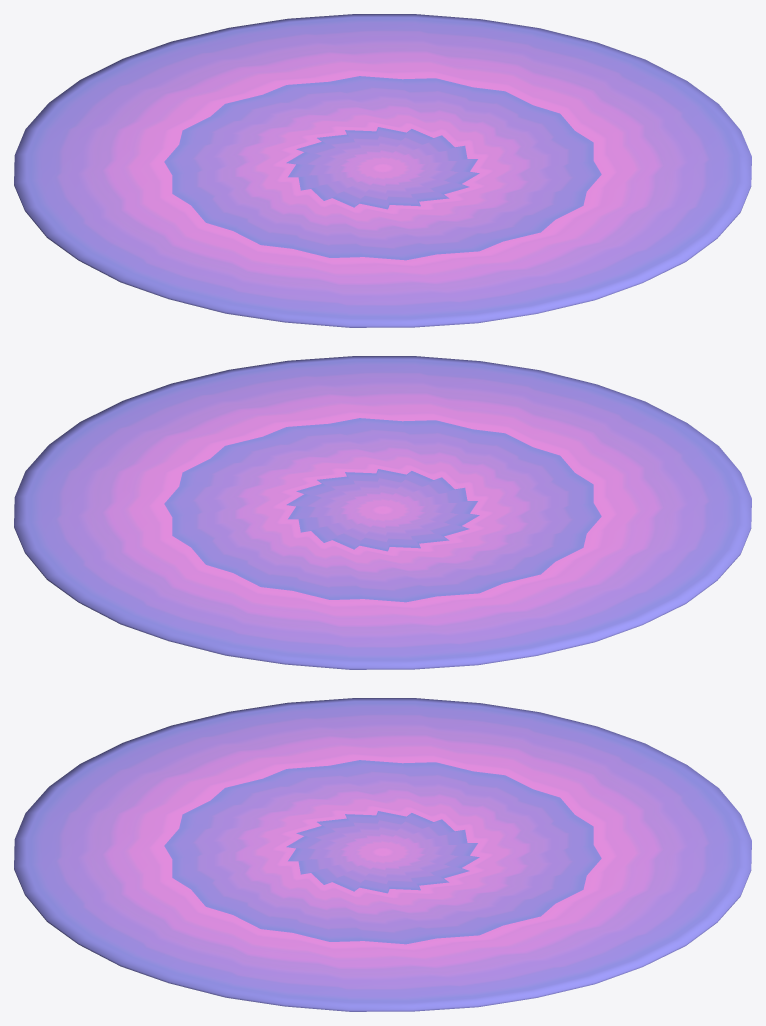
The model's file is Rug_Circle.fbx.
3 views of the same model, one above another, from view 1: azimuth 30°, elevation 25°; view 2: azimuth 150°, elevation 25°; view 3: azimuth 270°, elevation 25° (orthographic).
Visible parts, largest first — view 1: Rug_Circle; view 2: Rug_Circle; view 3: Rug_Circle.
Boxes of the visible parts, <box> form: Rug_Circle: <box>14,14,751,327</box>; Rug_Circle: <box>14,356,751,669</box>; Rug_Circle: <box>14,698,751,1011</box>.
Size of the model in its own units: 222 by 1.28 by 222.
